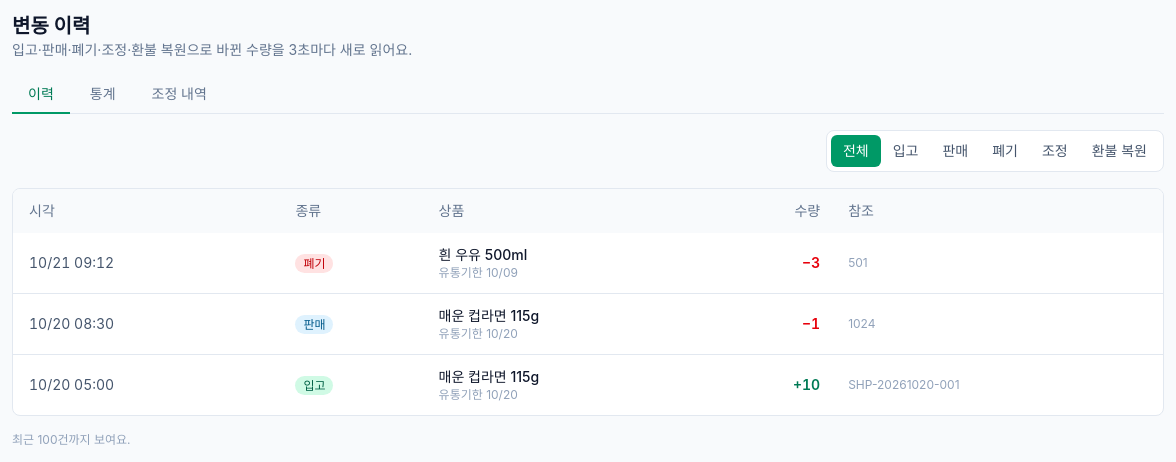
Test: 재고 변동 이력 (S-13) › 통계 탭으로 바꾸면 이력 대신 기간 통계를 부른다 (S-42)
What coordinates should you click on to do the following:
click the tab "통계"
I would click on:
 (103, 95)
Its box is [74,76,132,114].
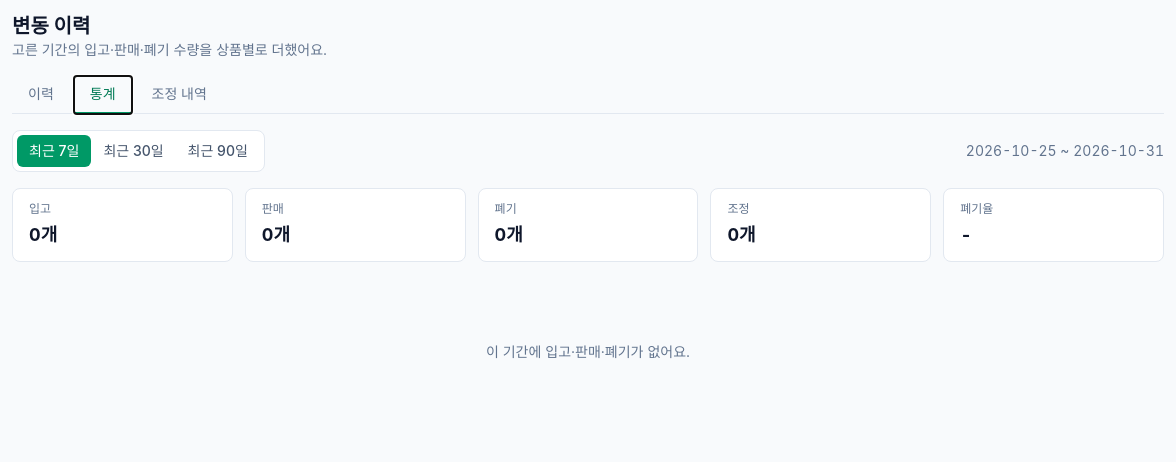
Result: the text "이 기간에 입고·판매·폐기가 없어요." is shown at [486,343,690,360]
Result: the text "SHP-20261020-001" is gone
